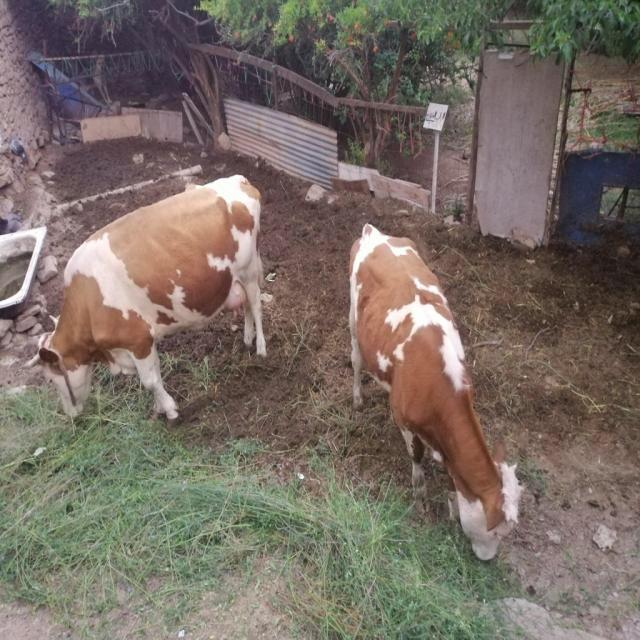cow: (350, 224, 520, 559), (39, 175, 266, 420)
